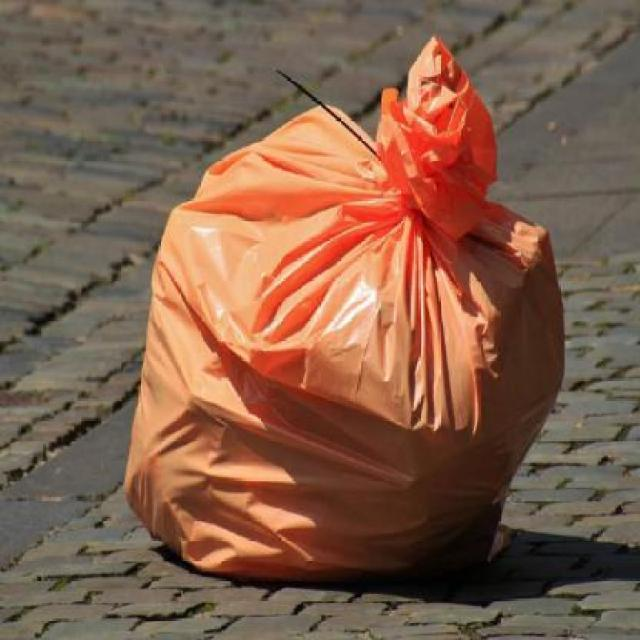Garbage_Bag: (121, 32, 568, 594)
